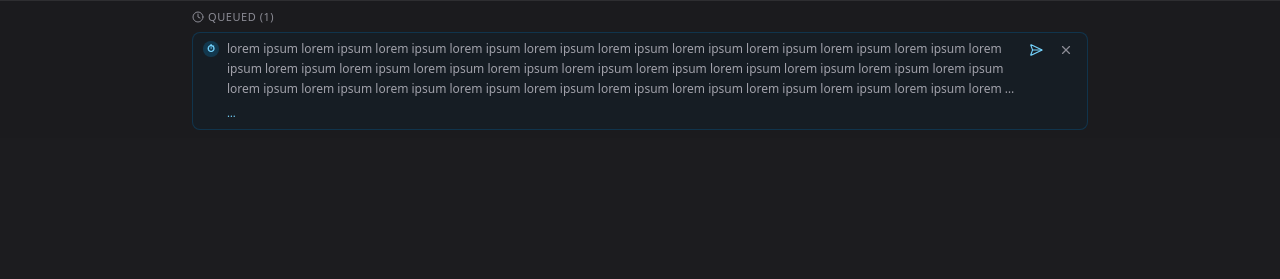
Test case: QueuedPromptsStrip › clamps a long prompt, then bounds the expanded text in a scroll box with the toggle outside it
Click the button named "Show full queued prompt" at (231, 113), box [227,104,236,121]
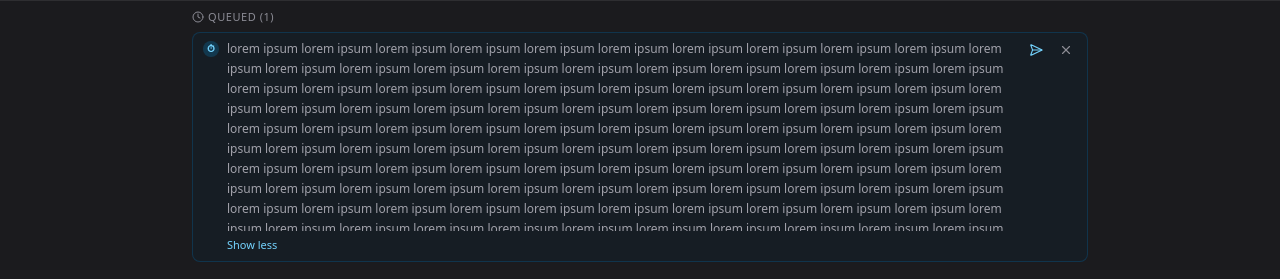
Expected: the button with aria-label "Collapse queued prompt" reads "Show less", [227,236,277,253]
